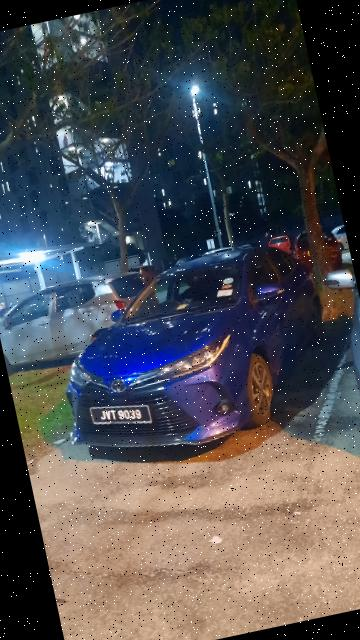License_Plate: (86, 396, 155, 442)
car: (44, 231, 348, 471)
